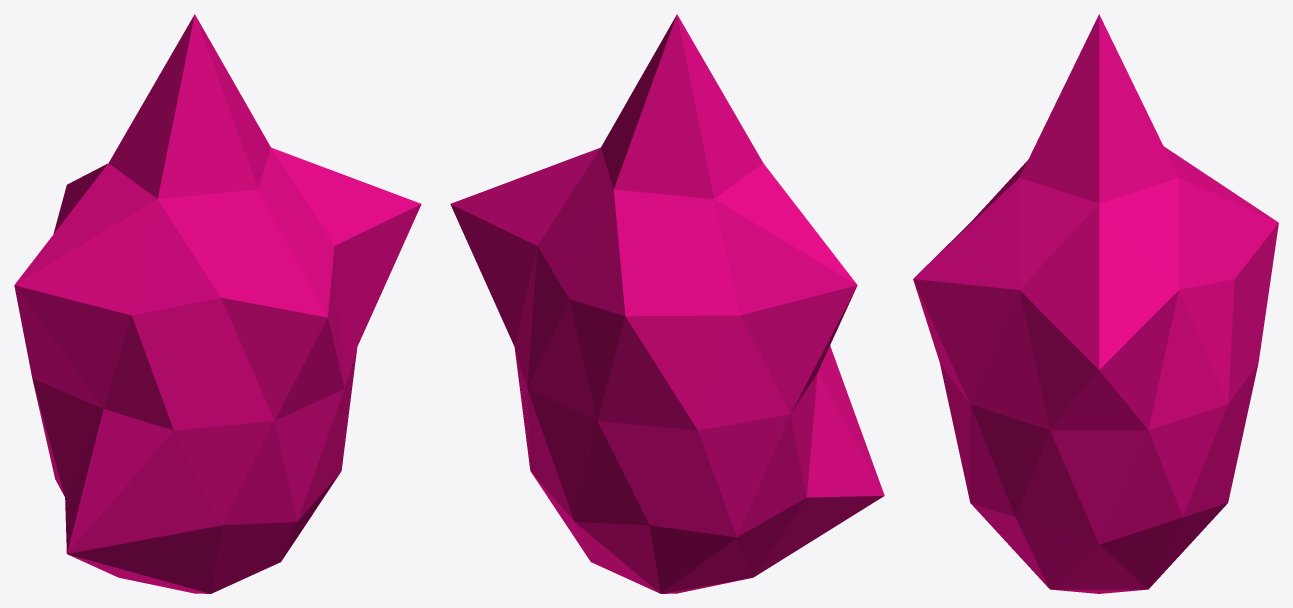
Rendered from Crystal.fbx.
The picture shows the model from 3 angles, left to right: view 1: azimuth 30°, elevation 25°; view 2: azimuth 150°, elevation 25°; view 3: azimuth 270°, elevation 25°; orthographic projection.
Visible parts, largest first — view 1: Icosphere; view 2: Icosphere; view 3: Icosphere.
Part boxes in pixels (bbox=[...]): Icosphere: bbox=[14, 14, 421, 593]; Icosphere: bbox=[450, 14, 884, 593]; Icosphere: bbox=[913, 14, 1278, 593].
Size of the model in its own units: 18.46 by 25.09 by 14.35.
